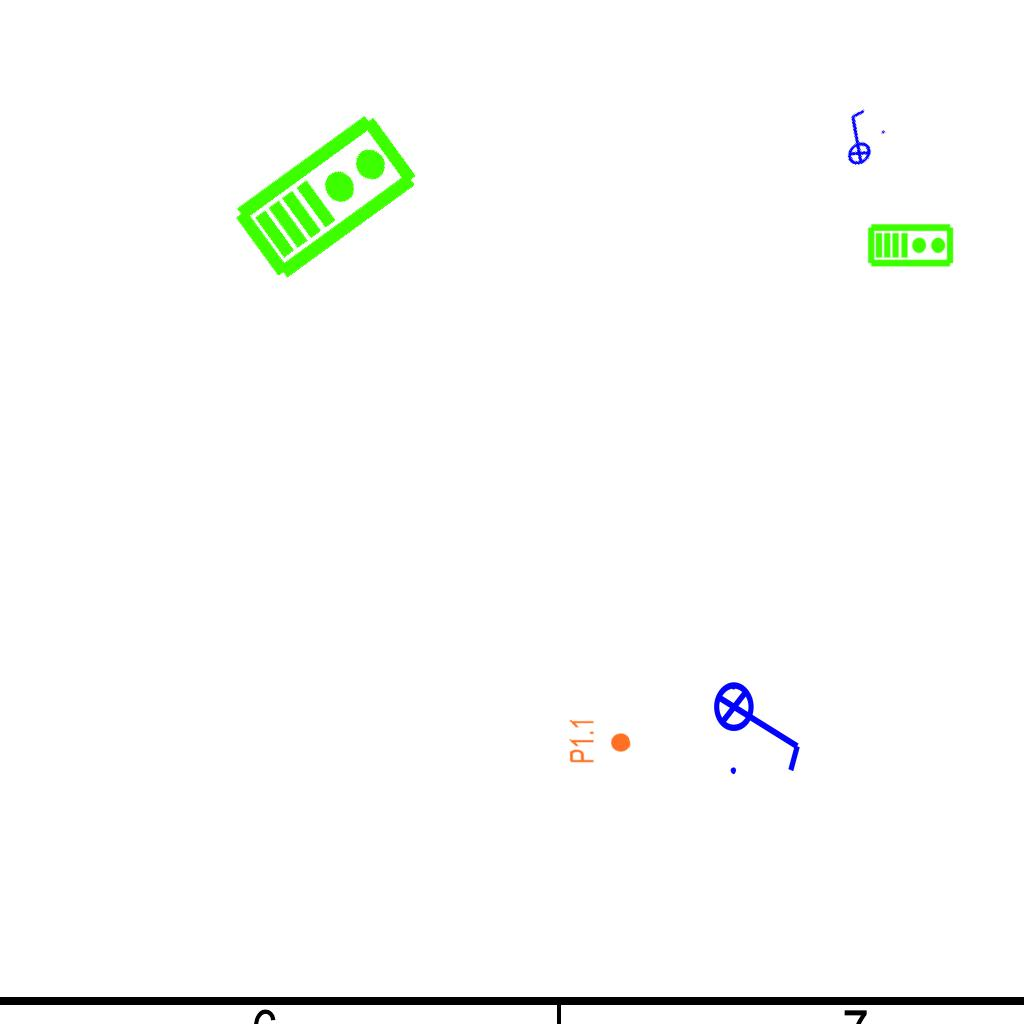Ausschalter_beleuchtet: (712, 668, 808, 780), (820, 101, 894, 175)
Downlight_LED_Einbauleuchten_Flur: (567, 717, 633, 765)
Gegensprechanlage_mit_Video: (226, 104, 425, 286), (867, 221, 955, 268)
